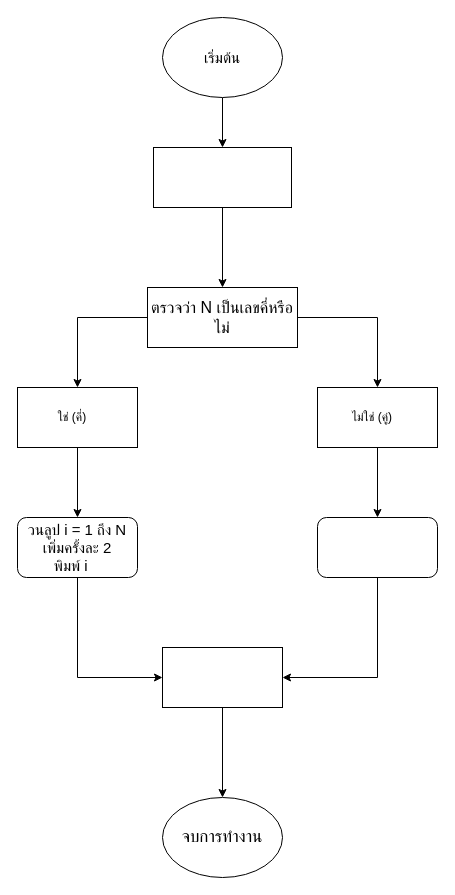
Image size: 455x895. Some labels were removed from this diagram. The box of each missing label's shape, as (x1, y1, x2, y2) in pixels:
รับค่า N จากผู้ใช้: (152, 146, 292, 208)
วนลูป i = N ถึง 0 ลดครั้งละ 2 พิมพ์ i: (316, 516, 438, 578)
แสดงผลลัพธ์: (162, 646, 282, 708)
